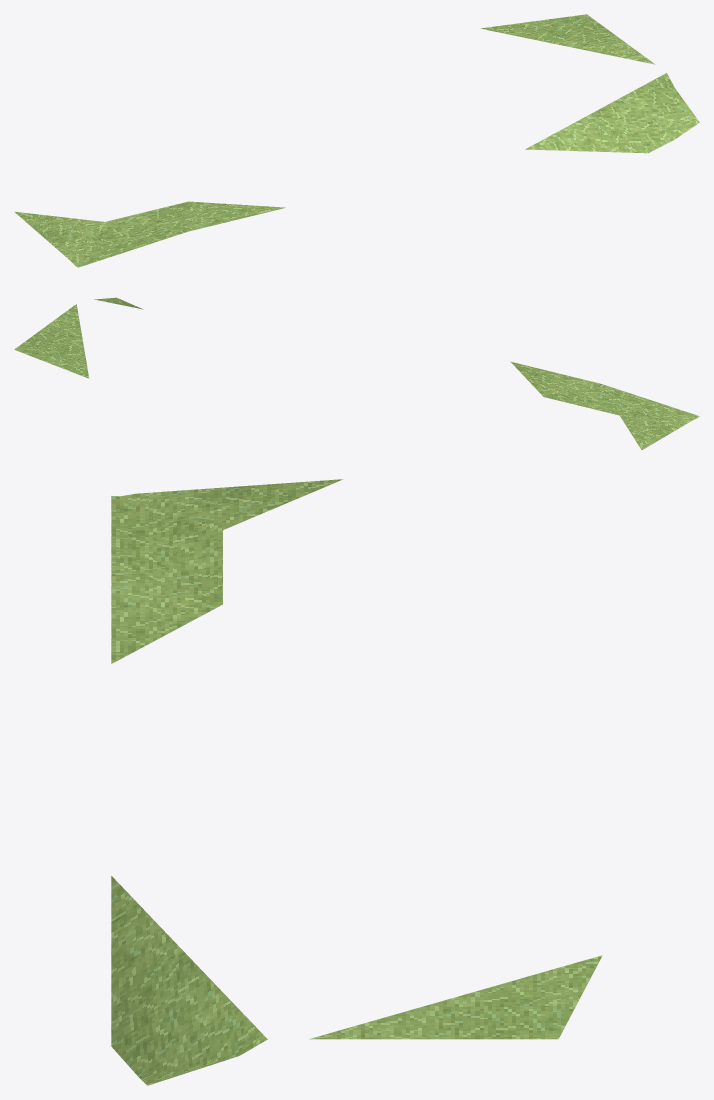
File: kd_stage_135ebf_3_14_bounded.glb
3 views of the same model, one above another, from view 1: azimuth 30°, elevation 25°; view 2: azimuth 150°, elevation 25°; view 3: azimuth 270°, elevation 25° (orthographic). The views are drawn at different scales.
Visible parts, largest first — view 1: kd_stage_135ebf_3_14_bounded; view 2: kd_stage_135ebf_3_14_bounded; view 3: kd_stage_135ebf_3_14_bounded.
Part boxes in pixels (box(x1,y1,x2,y2)): kd_stage_135ebf_3_14_bounded: box(14, 14, 699, 267); kd_stage_135ebf_3_14_bounded: box(14, 297, 699, 449); kd_stage_135ebf_3_14_bounded: box(111, 479, 602, 1085).
Size of the model in its own units: 20.39 by 1.04 by 7.56.
Materials: 1 (1 with a texture image).
